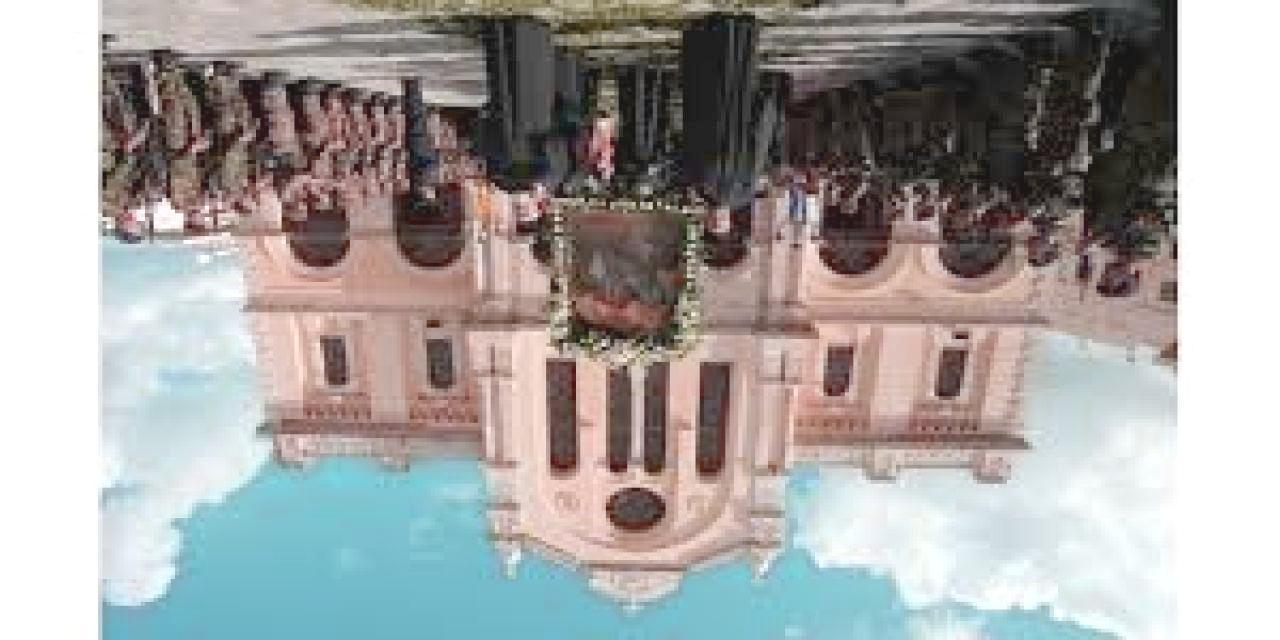Agios Minas: (234, 104, 1059, 620)
